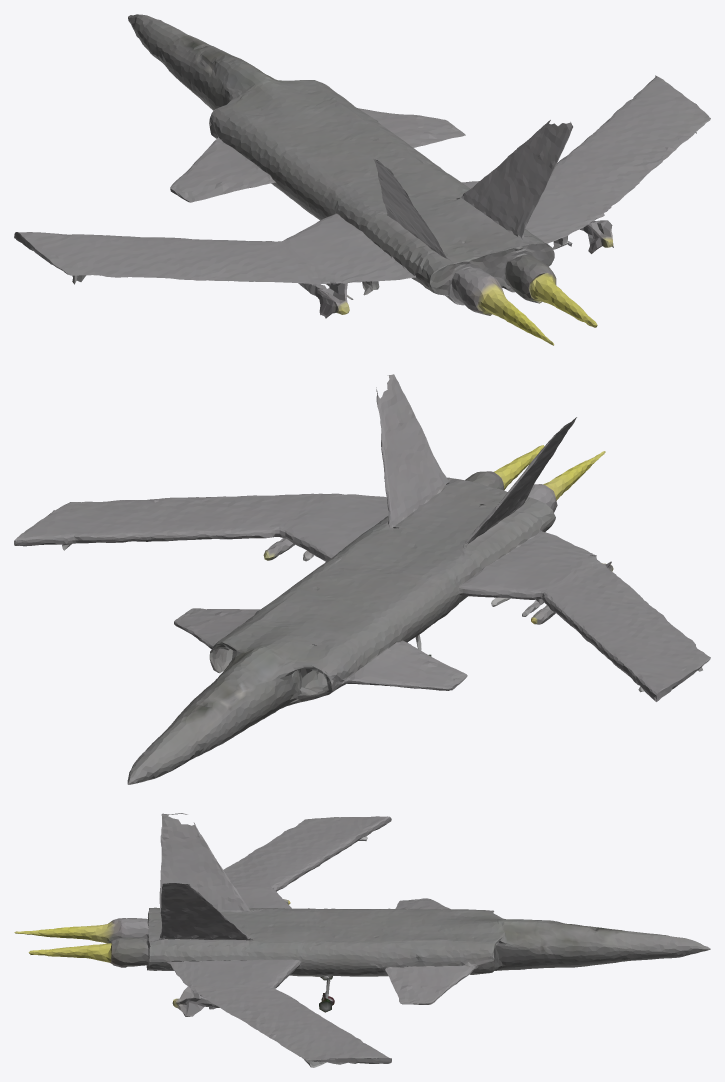
3 renders of one model, top to bottom at view 1: azimuth 30°, elevation 25°; view 2: azimuth 150°, elevation 25°; view 3: azimuth 270°, elevation 25°, orthographic. The views are drawn at different scales.
Visible parts, largest first — view 1: defaultobject; view 2: defaultobject; view 3: defaultobject.
Boxes of the visible parts, x1,y1,x2,y2 form: defaultobject: (14, 14, 710, 345); defaultobject: (14, 374, 710, 784); defaultobject: (14, 813, 710, 1067).
Size of the model in its own units: 0.7814 by 0.2212 by 0.949.
